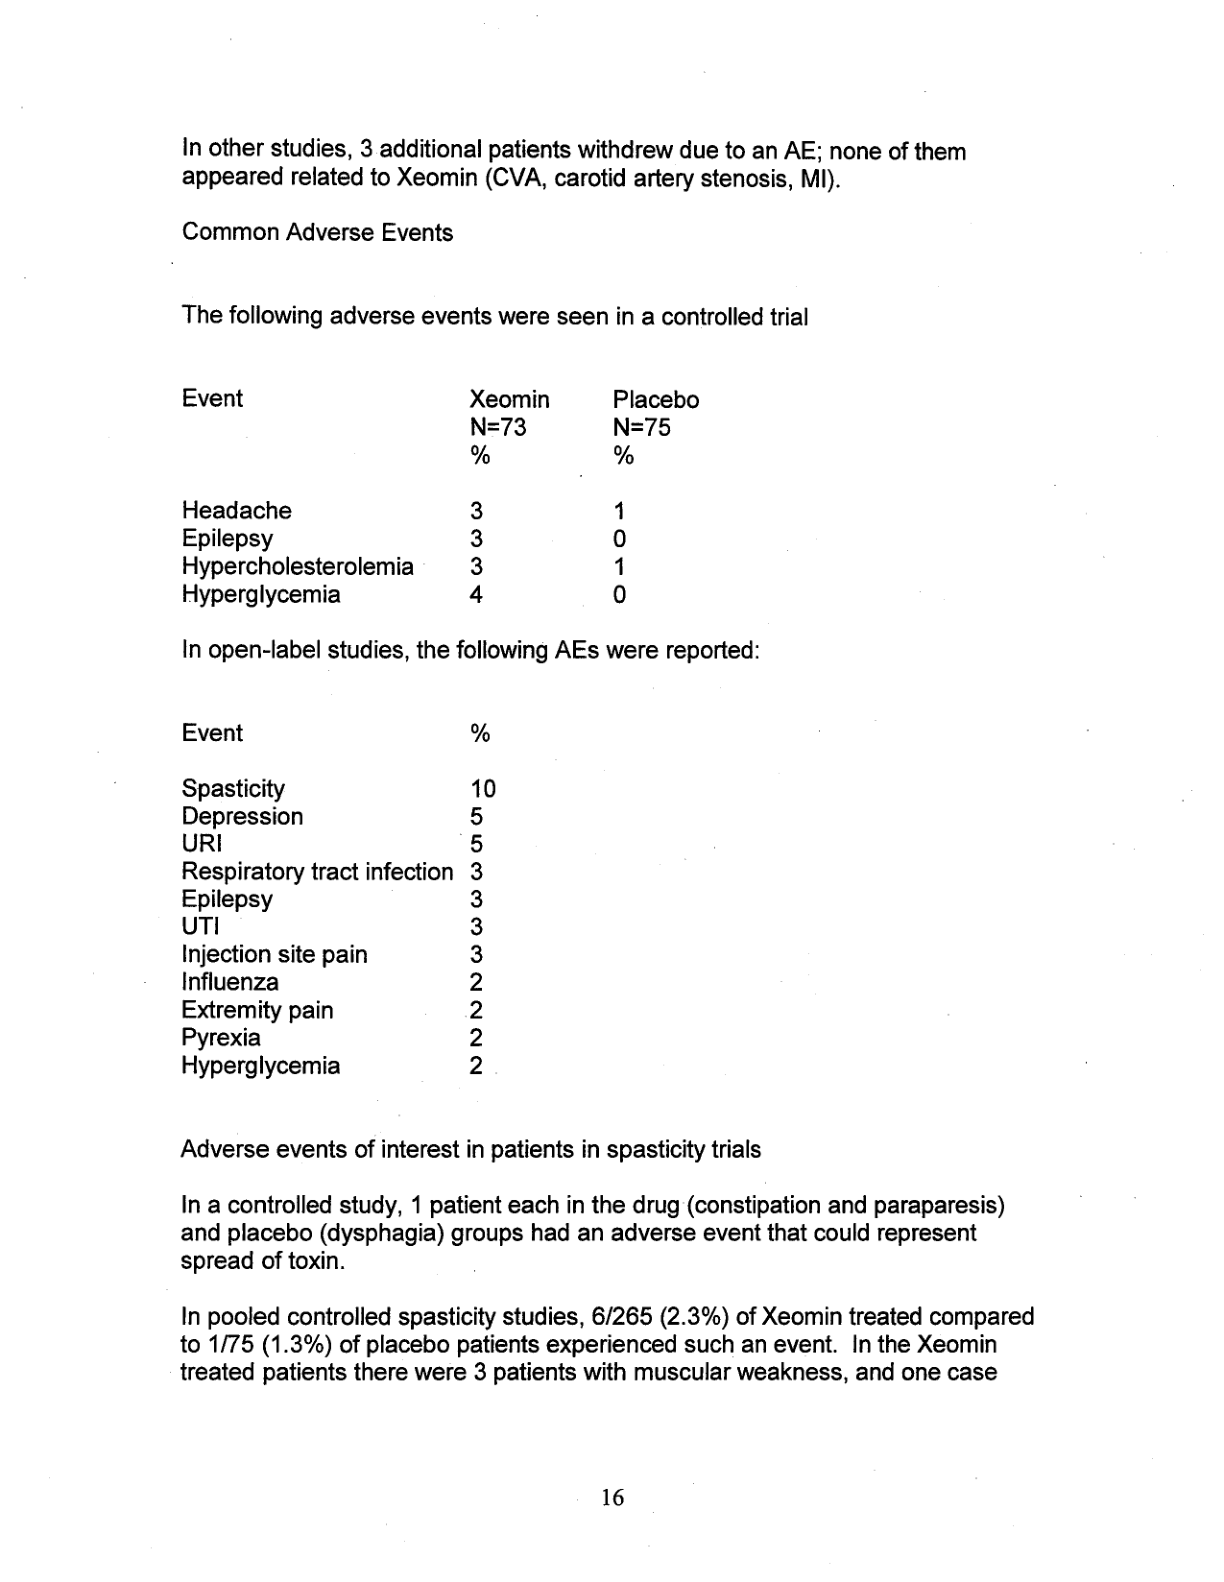nolines: (177, 715, 500, 1079), (179, 384, 703, 607)
